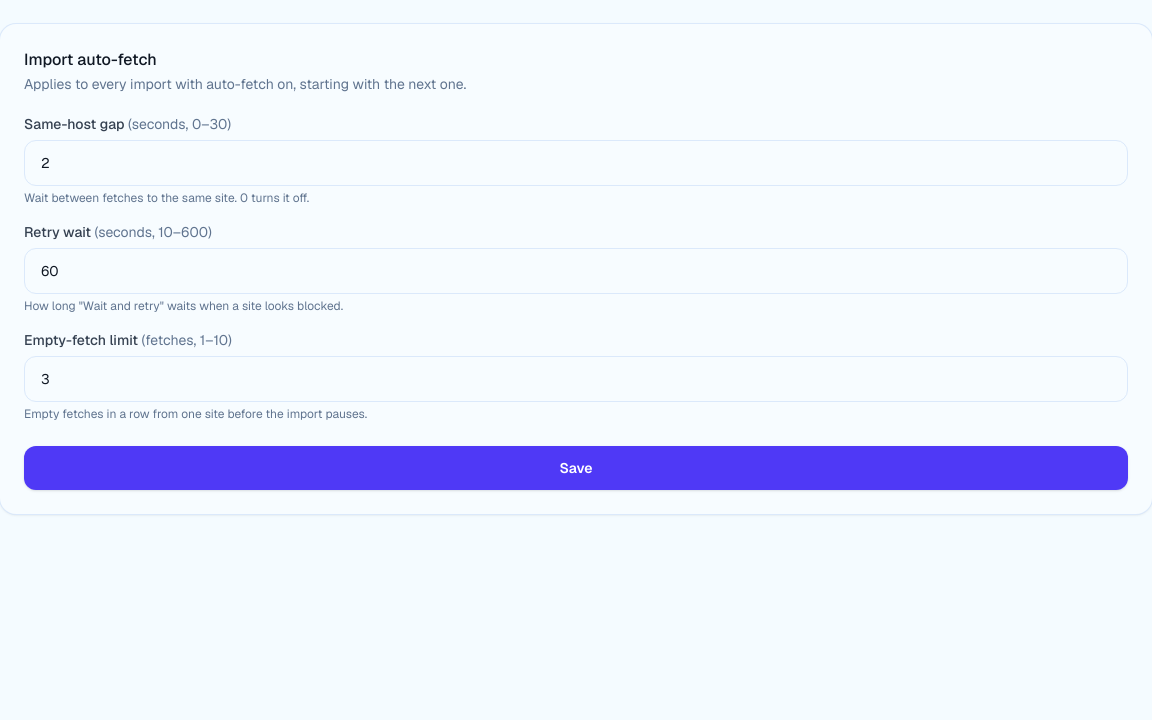
Test case: ImportFetchSettingsCard › shows the server error inline
Click the button "Save". click: point(576, 468)
box: [24,446,1128,490]
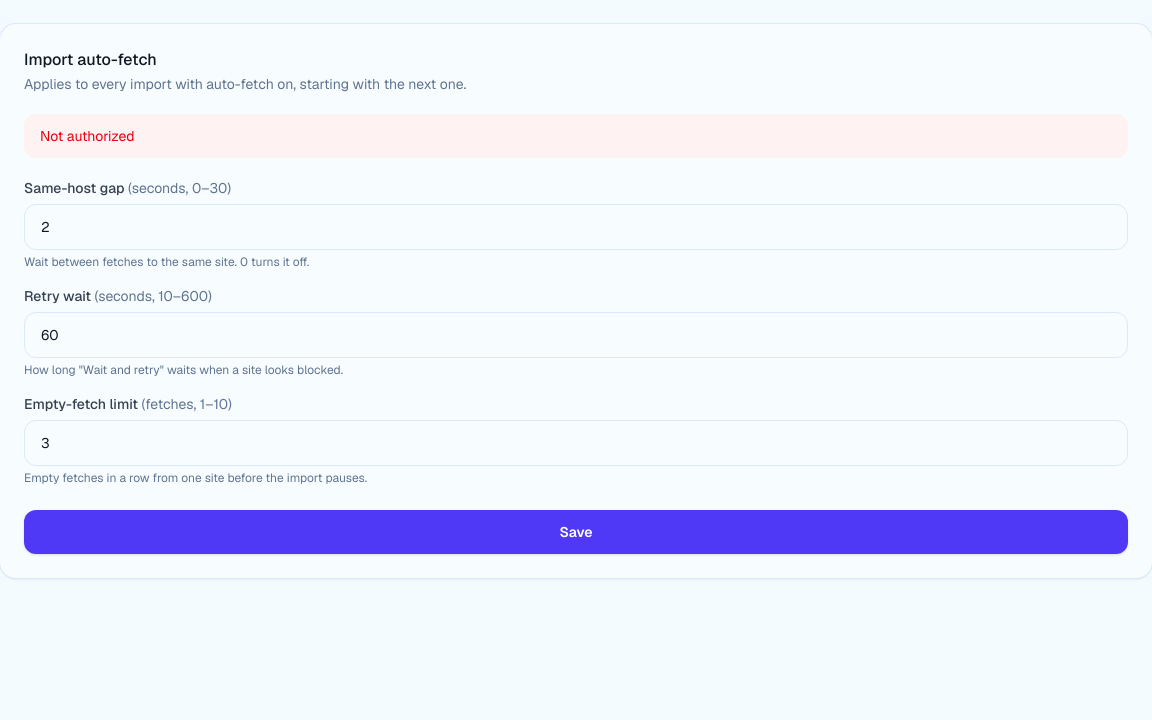
Check: the text "Not authorized" is shown, box [24,114,1128,158]
